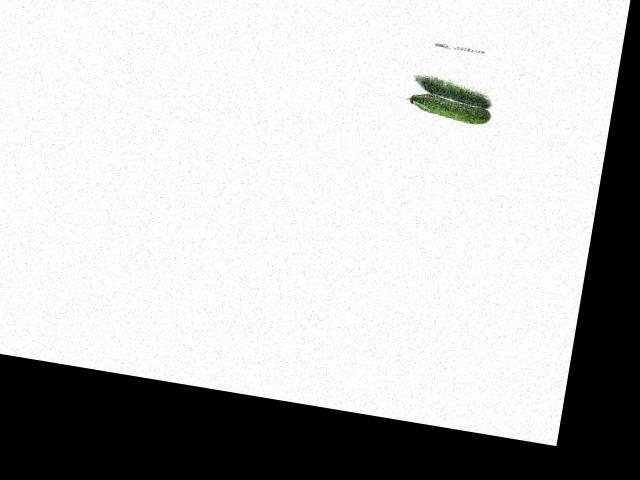cucumber: (404, 89, 492, 126)
